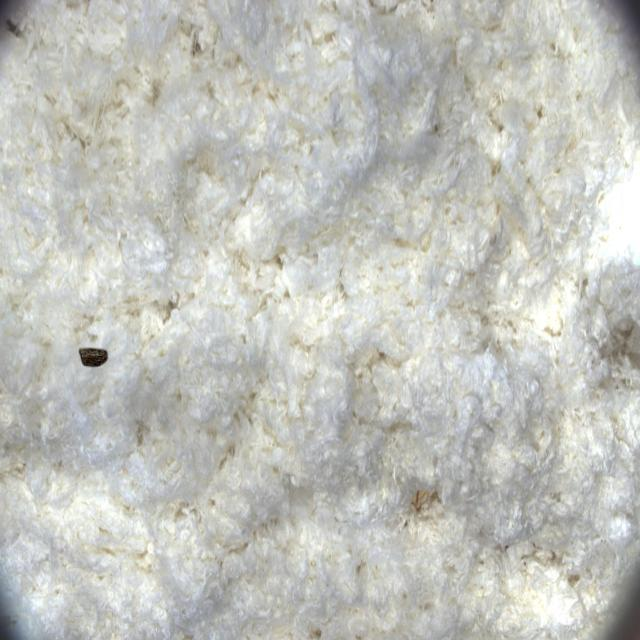dust: (57, 300, 134, 404)
